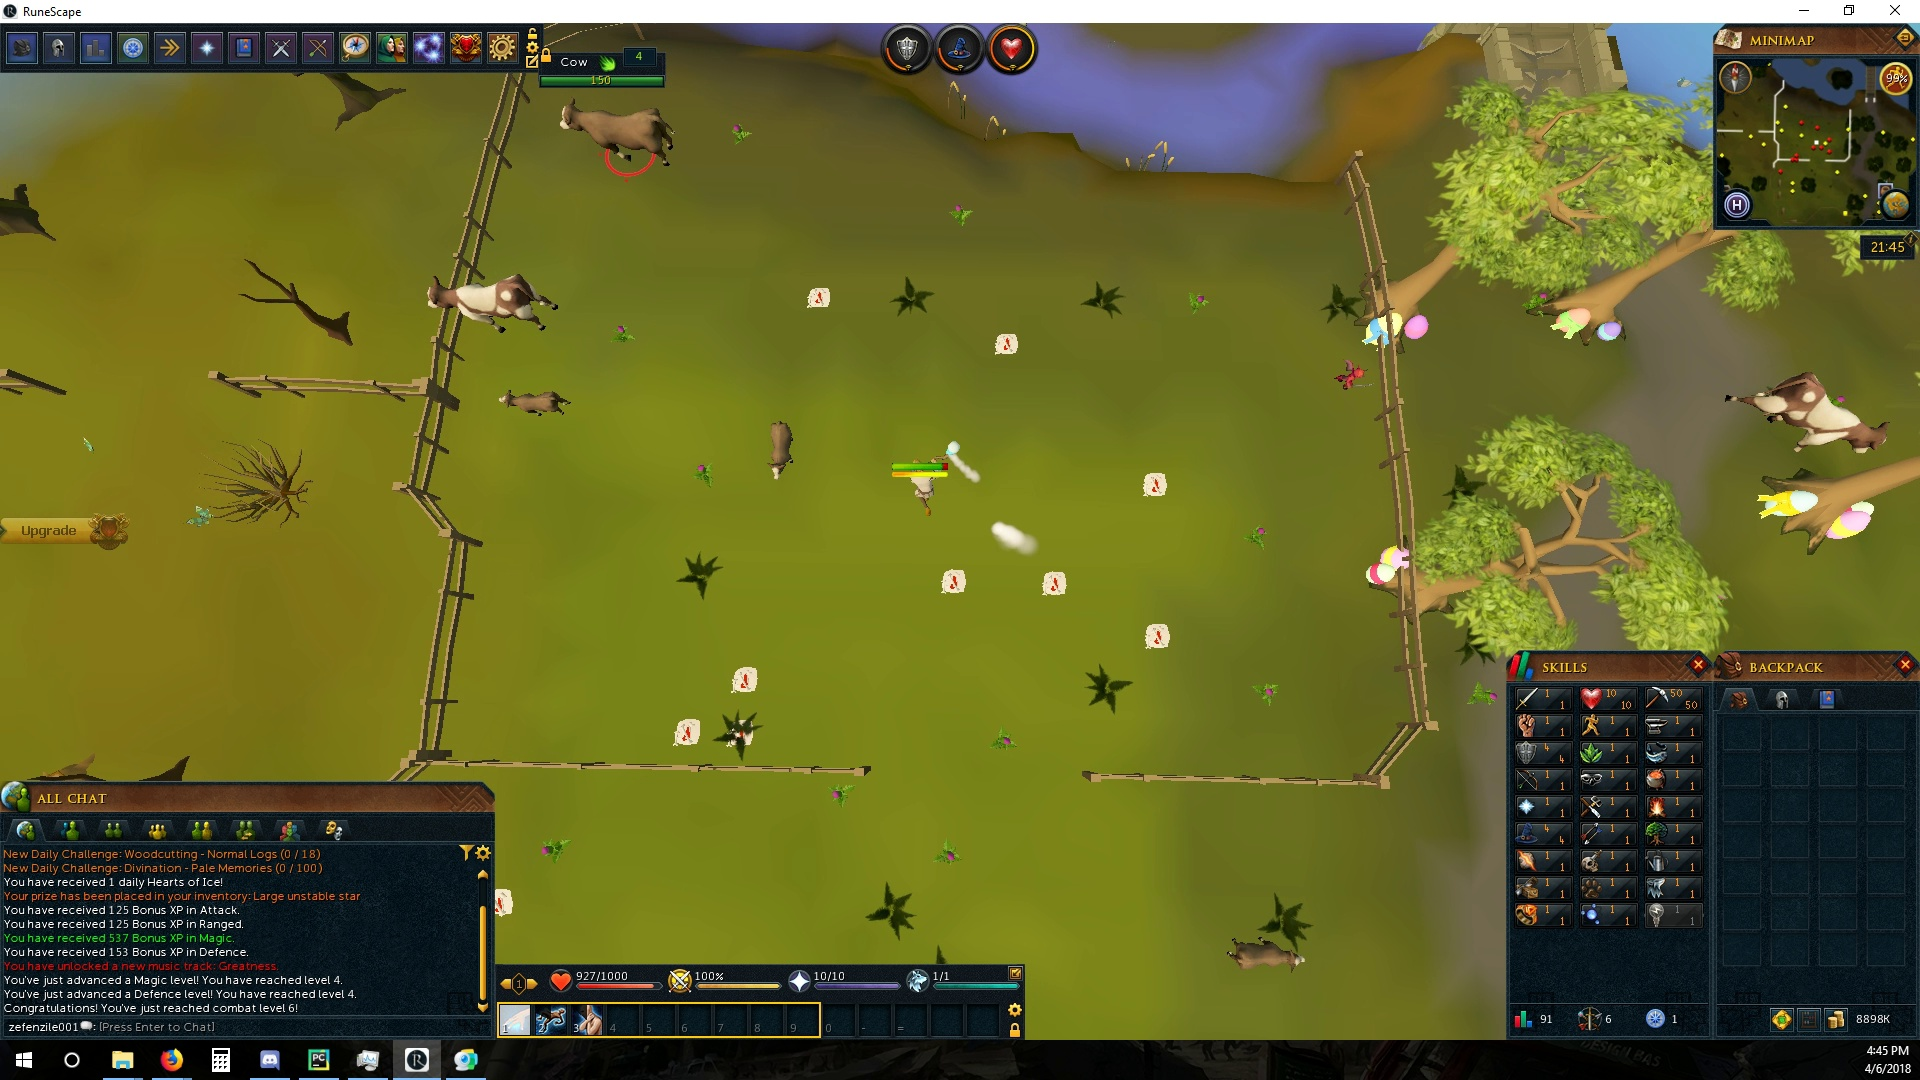calf: (1222, 936, 1308, 973), (495, 386, 574, 419), (769, 415, 796, 481)
cow: (1717, 371, 1890, 460), (553, 96, 679, 166), (419, 276, 560, 334)
cow_drop: (934, 566, 973, 597), (666, 716, 702, 749), (1036, 566, 1069, 597), (1134, 469, 1168, 500), (731, 663, 760, 696), (1143, 618, 1171, 650), (804, 282, 833, 310), (992, 328, 1023, 353)
